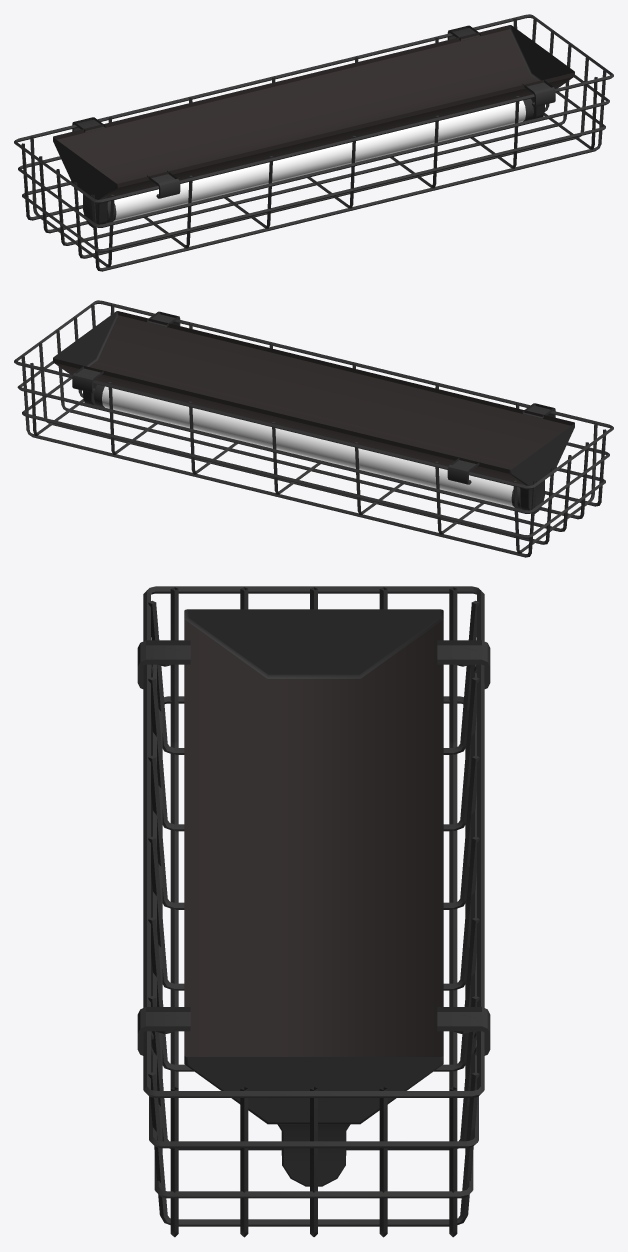
Rendered from light.fbx.
3 views of the same model, one above another, from view 1: azimuth 30°, elevation 25°; view 2: azimuth 150°, elevation 25°; view 3: azimuth 270°, elevation 25° (orthographic). The views are drawn at different scales.
Visible parts, largest first — view 1: 01; view 2: 01; view 3: 01.
Boxes of the visible parts, x1,y1,x2,y2 form: 01: (14,14,613,271); 01: (14,300,613,557); 01: (137,586,490,1237).
Bounding box in the file's own units: 106 × 15.82 × 30.99.
